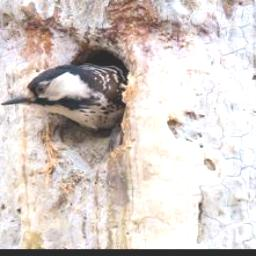Woodpecker: (2, 58, 125, 132)
